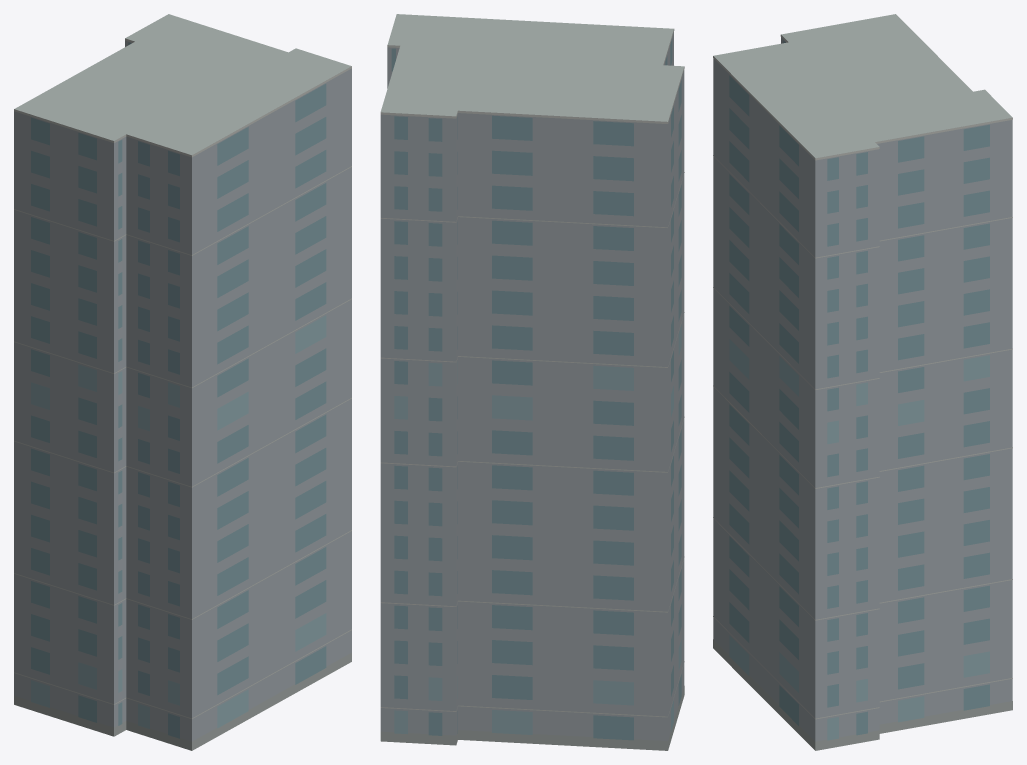
The model's file is residential-a9ae0b3a-384b-4351-b194-f34c50c03d90.glb.
3 renders of one model, left to right at view 1: azimuth 30°, elevation 25°; view 2: azimuth 150°, elevation 25°; view 3: azimuth 270°, elevation 25°, orthographic. The views are drawn at different scales.
Visible parts, largest first — view 1: residential-a9ae0b3a-384b-4351-b194-f34c50c03d90.tmp; view 2: residential-a9ae0b3a-384b-4351-b194-f34c50c03d90.tmp; view 3: residential-a9ae0b3a-384b-4351-b194-f34c50c03d90.tmp.
Boxes of the visible parts, box(x1,y1,x2,y2) form: residential-a9ae0b3a-384b-4351-b194-f34c50c03d90.tmp: box(14, 14, 351, 750); residential-a9ae0b3a-384b-4351-b194-f34c50c03d90.tmp: box(380, 14, 684, 750); residential-a9ae0b3a-384b-4351-b194-f34c50c03d90.tmp: box(713, 14, 1012, 750).
Bounding box in the file's own units: 35.03 × 67 × 30.73.
